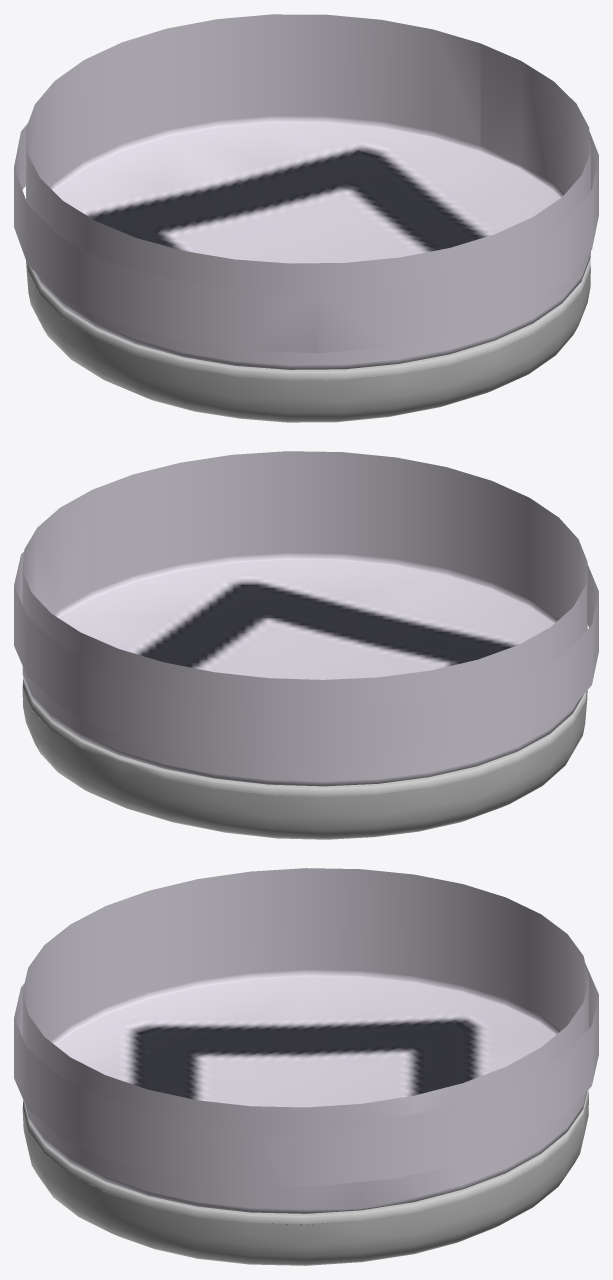
File: btn_square.obj
The picture shows the model from 3 angles, top to bottom: view 1: azimuth 30°, elevation 25°; view 2: azimuth 150°, elevation 25°; view 3: azimuth 270°, elevation 25°; orthographic projection.
Visible parts, largest first — view 1: btn_square; view 2: btn_square; view 3: btn_square.
Boxes of the visible parts, bbox=[...] form: btn_square: bbox=[14, 14, 598, 422]; btn_square: bbox=[14, 451, 598, 839]; btn_square: bbox=[14, 868, 598, 1265].
Size of the model in its own units: 0.1302 by 0.0467 by 0.1302.
